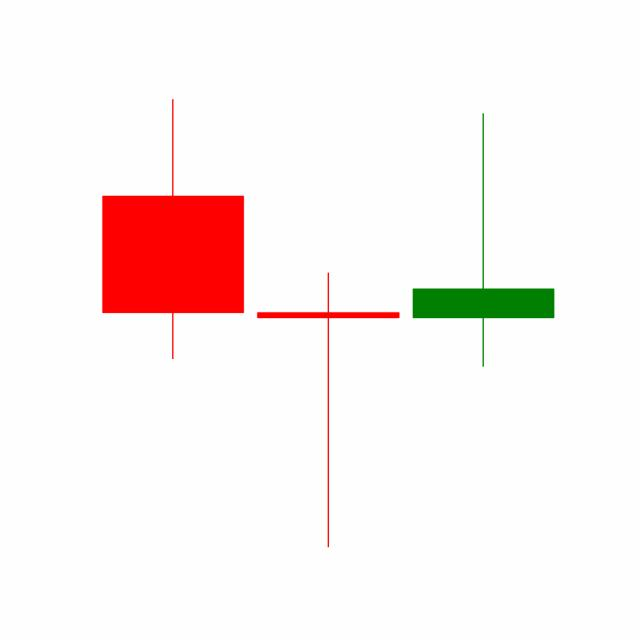Hammer: (249, 269, 406, 550)
